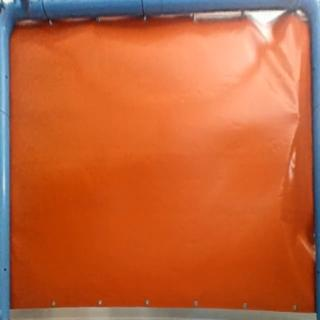Hit-hRxx: (286, 108, 300, 122)
